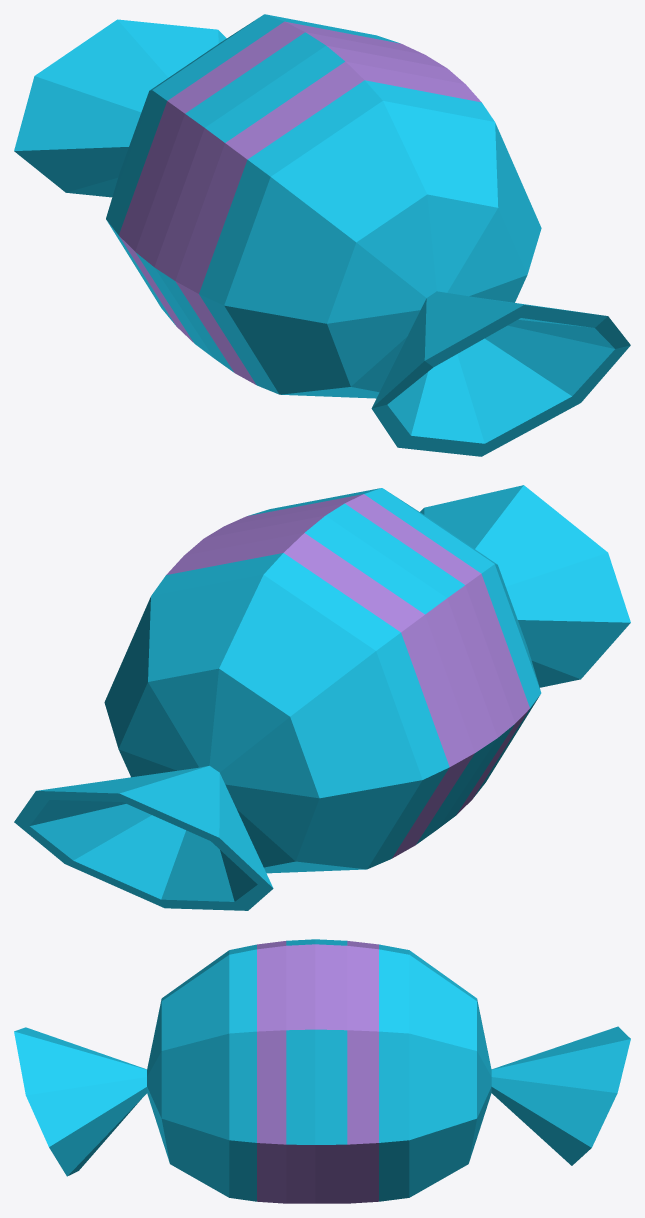
File: catnip.fbx
The picture shows the model from 3 angles, top to bottom: view 1: azimuth 30°, elevation 25°; view 2: azimuth 150°, elevation 25°; view 3: azimuth 270°, elevation 25°; orthographic projection. The views are drawn at different scales.
Visible parts, largest first — view 1: Circle.002; view 2: Circle.002; view 3: Circle.002.
Boxes of the visible parts, <box> form: Circle.002: <box>14,14,630,456</box>; Circle.002: <box>14,485,630,910</box>; Circle.002: <box>14,939,630,1203</box>.
Bounding box in the file's own units: 16.98 × 14.85 × 34.66.
